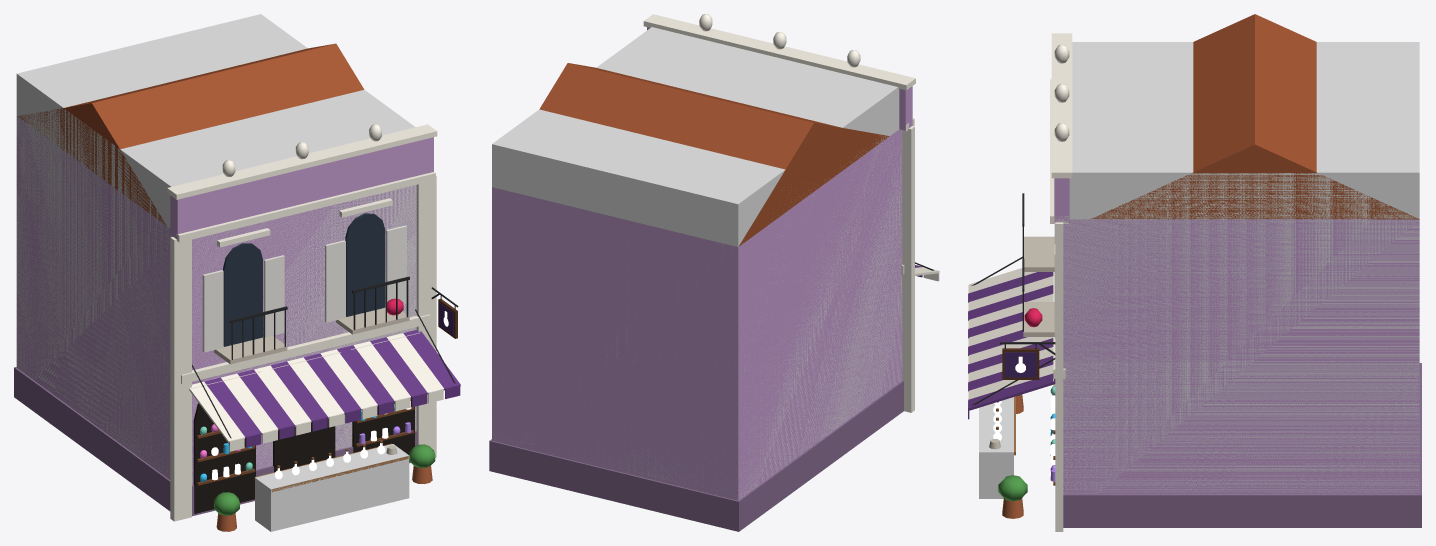
File: tienda_botica.glb
3 renders of one model, left to right at view 1: azimuth 30°, elevation 25°; view 2: azimuth 150°, elevation 25°; view 3: azimuth 270°, elevation 25°, orthographic. The views are drawn at different scales.
Visible parts, largest first — view 1: tienda_botica_Malla, COL_0, COL_1; view 2: tienda_botica_Malla, COL_0; view 3: tienda_botica_Malla, COL_0, COL_1.
Boxes of the visible parts, x1,y1,x2,y2 form: tienda_botica_Malla: (14, 43, 460, 531); COL_0: (16, 14, 416, 484); COL_1: (255, 444, 409, 531); tienda_botica_Malla: (489, 14, 939, 531); COL_0: (492, 27, 902, 500); tienda_botica_Malla: (968, 14, 1421, 531); COL_0: (1063, 42, 1419, 494); COL_1: (979, 397, 1013, 498).
Size of the model in its own units: 6.44 by 8.2 by 8.81.
